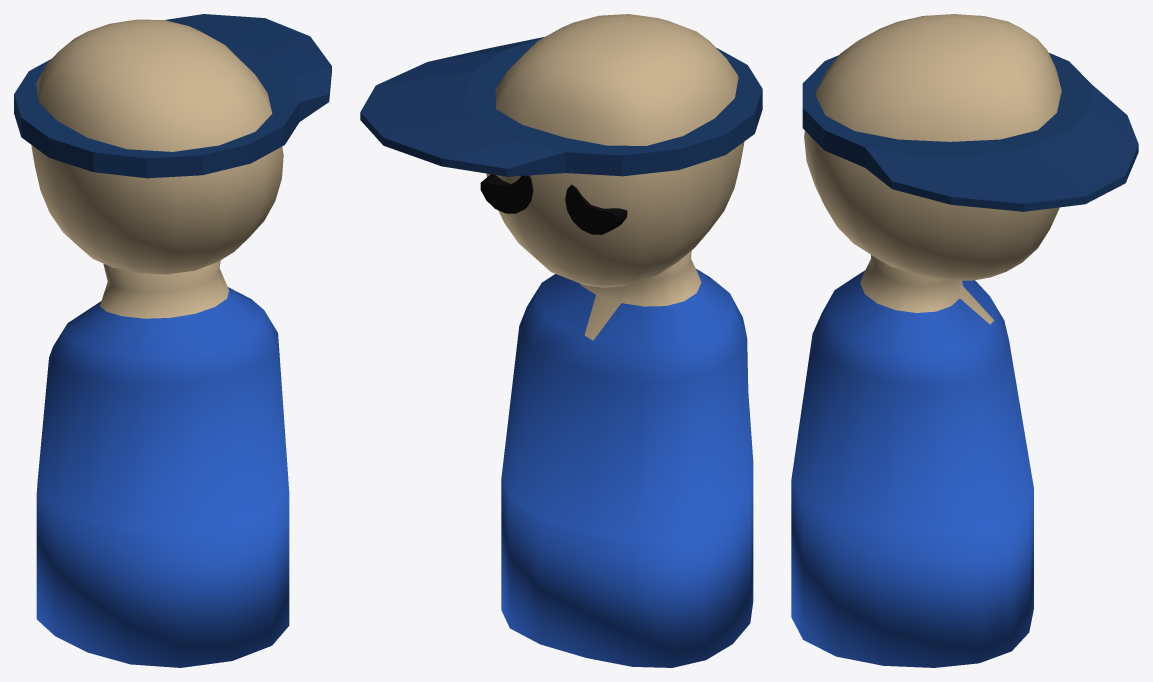
The model's file is man.fbx.
3 renders of one model, left to right at view 1: azimuth 30°, elevation 25°; view 2: azimuth 150°, elevation 25°; view 3: azimuth 270°, elevation 25°, orthographic. The views are drawn at different scales.
Visible parts, largest first — view 1: Cylinder; view 2: Cylinder; view 3: Cylinder.
Boxes of the visible parts, <box> form: Cylinder: <box>14,14,331,667</box>; Cylinder: <box>360,14,762,667</box>; Cylinder: <box>791,14,1138,667</box>.
Size of the model in its own units: 170 by 159 by 295.
